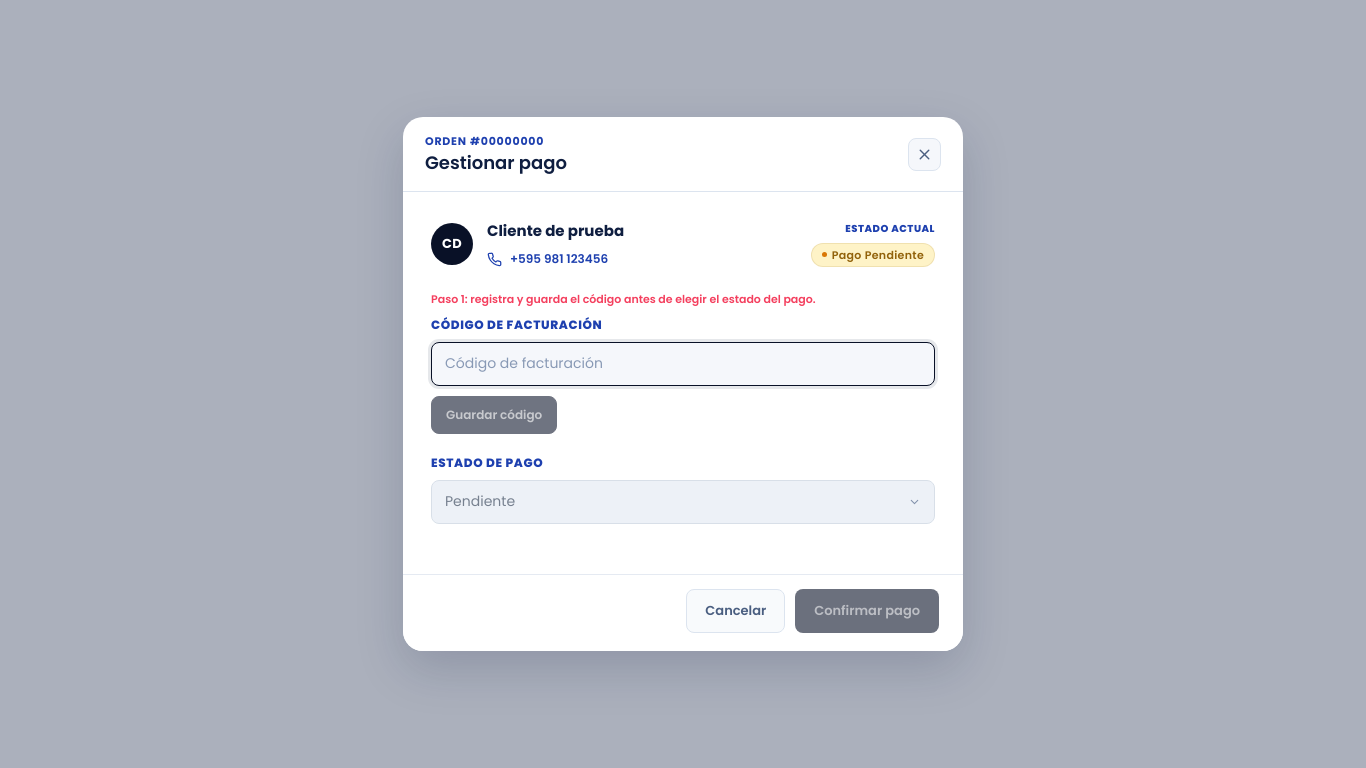
Test: PaymentFormModal layout › keeps the missing-code blocker after a rejected or unconfirmed save
This screenshot has width=1366, height=768.
Type "FAC-BORRADOR" into the field labelled "Código de facturación" at {"x": 683, "y": 364}, box [431,342,935,386]
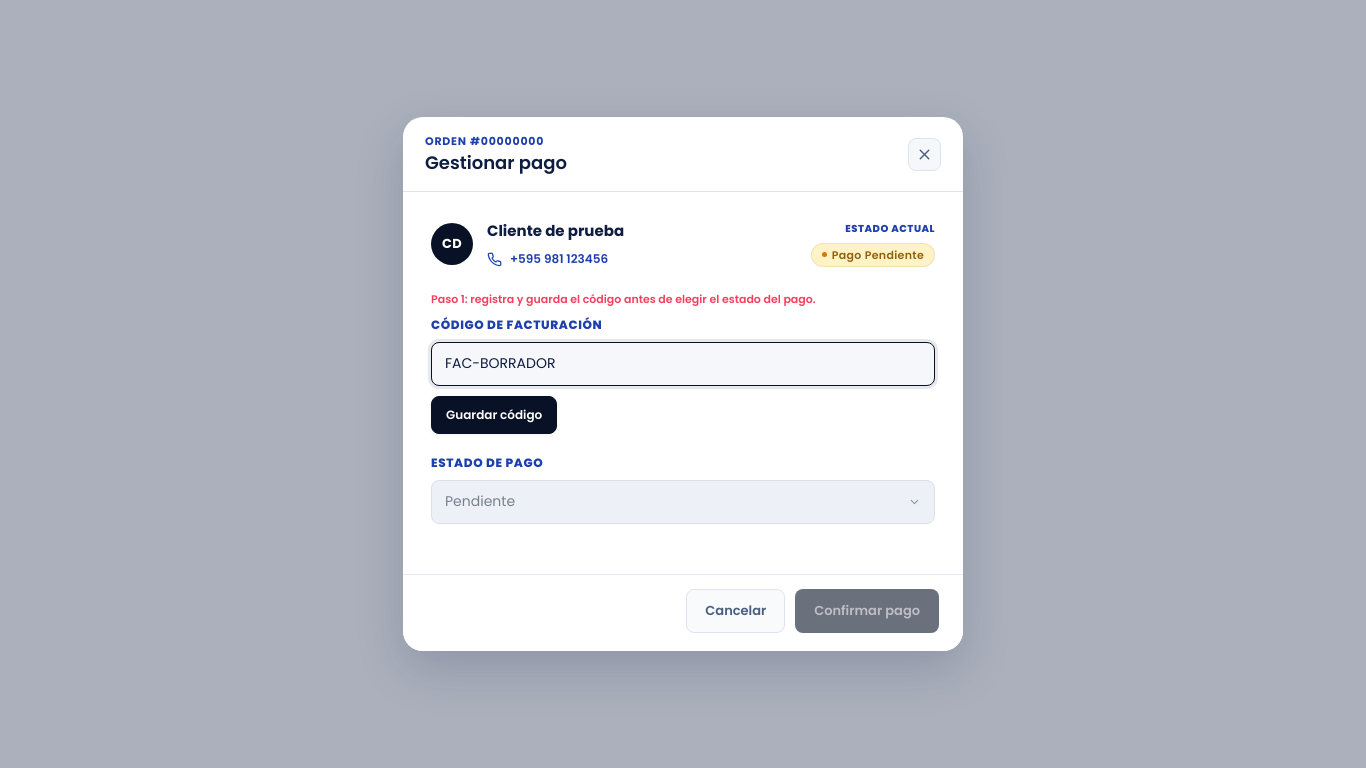
Expected: the dropdown is disabled, [431,480,935,524]
Click the button "Guardar código" at {"x": 494, "y": 414}, box [431,396,557,434]
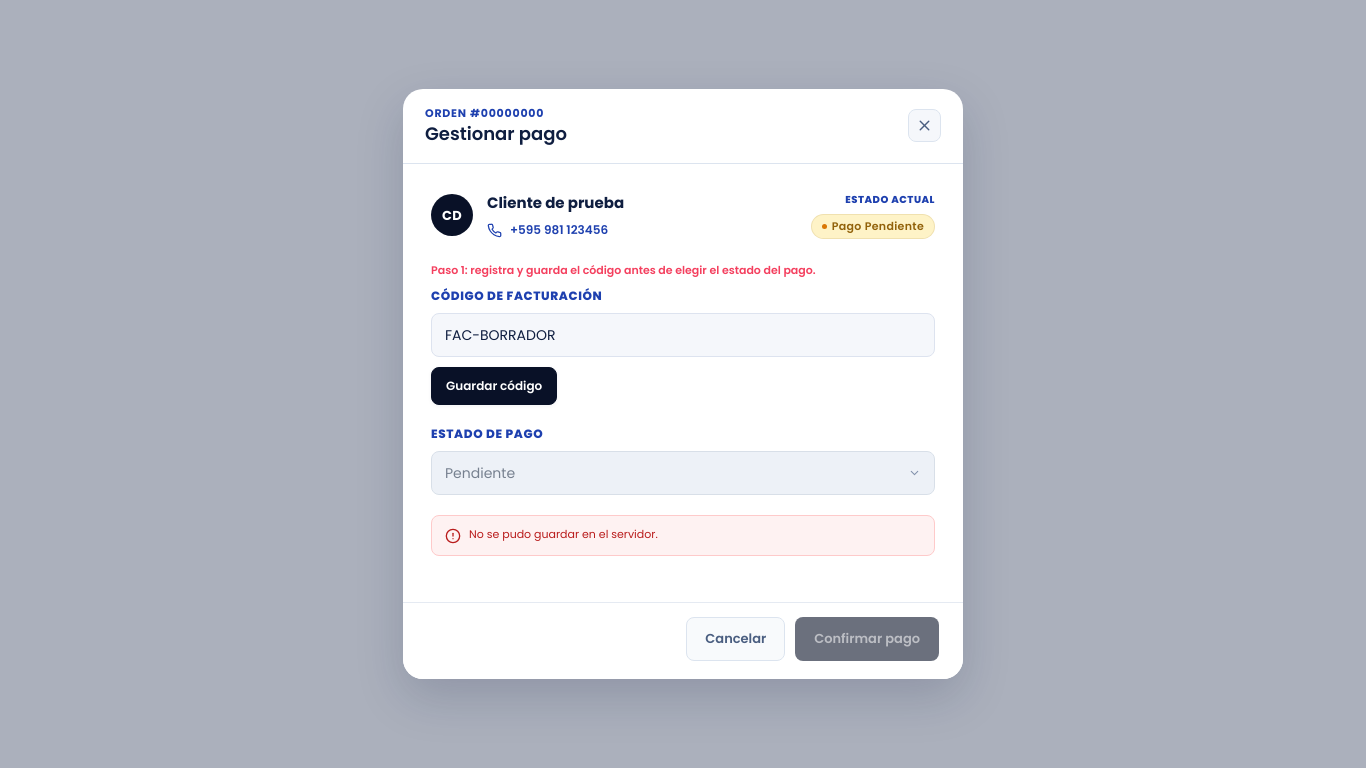
Expected: the dropdown is disabled, [431,451,935,495]
Expected: the message reads "No se pudo guardar en el servidor.", [469,526,658,542]
Click the button "Guardar código" at {"x": 494, "y": 386}, box [431,367,557,405]
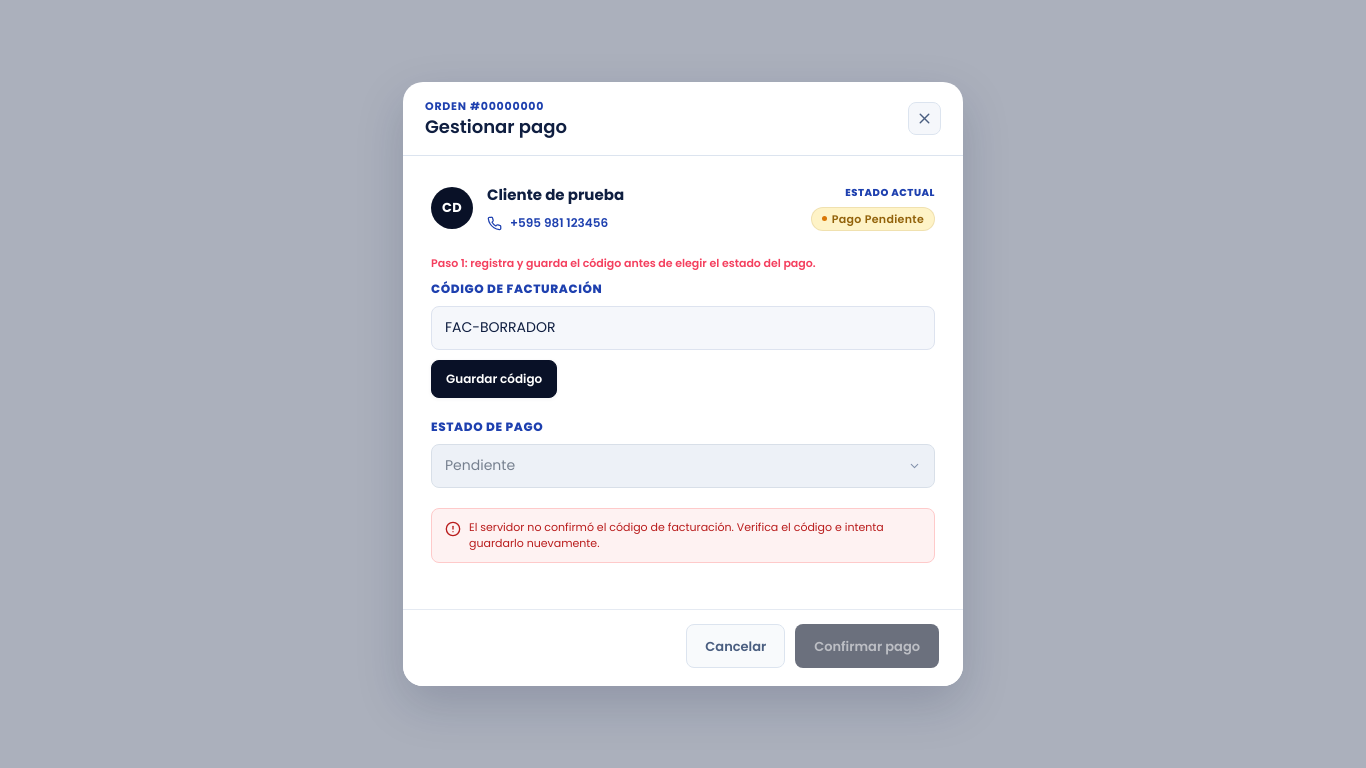
Expected: the dropdown is disabled, [431,444,935,488]
Expected: the message shows "El servidor no confirmó el código de facturación.", [469,519,884,550]
